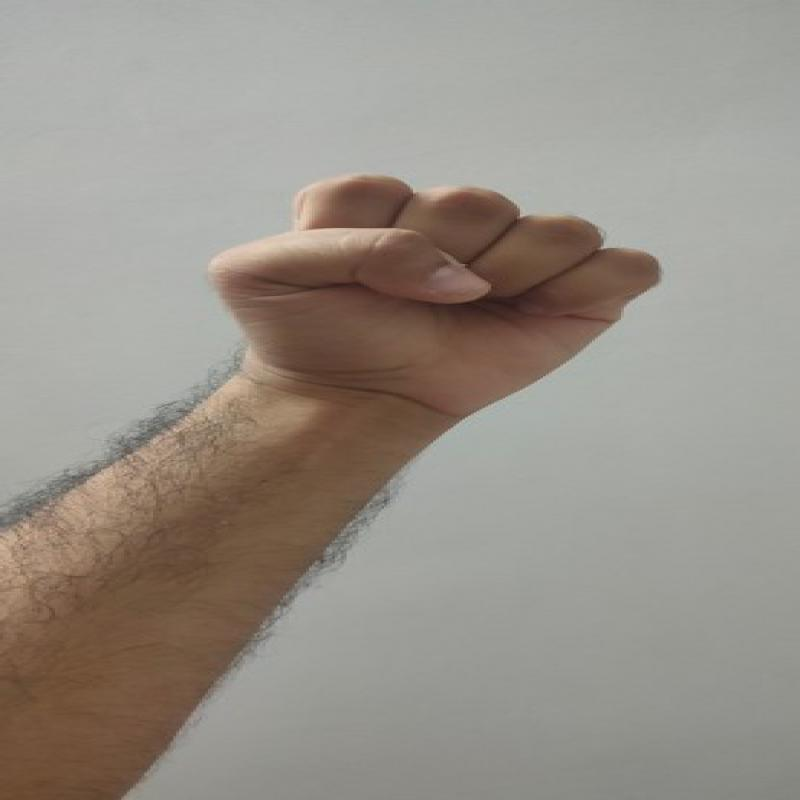Mushti: (188, 157, 672, 429)
